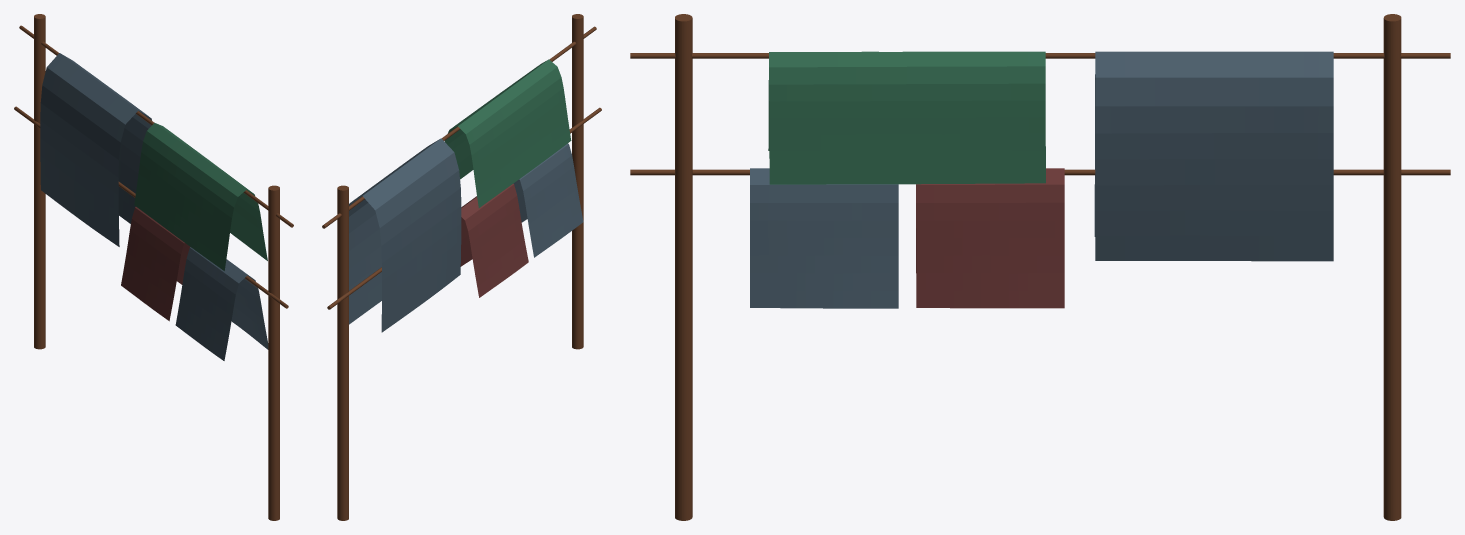
Rendered from varal.fbx.
3 renders of one model, left to right at view 1: azimuth 30°, elevation 25°; view 2: azimuth 150°, elevation 25°; view 3: azimuth 270°, elevation 25°, orthographic. The views are drawn at different scales.
Visible parts, largest first — view 1: Plane.001, Plane, Cylinder.003, Plane.003, Plane.004; view 2: Plane.001, Plane, Cylinder.003, Plane.004, Plane.003; view 3: Plane.001, Plane, Cylinder.003, Plane.004, Plane.003.
Boxes of the visible parts, x1=… form: Plane.001: x1=40, y1=53, x2=151, y2=246; Plane: x1=134, y1=123, x2=267, y2=270; Cylinder.003: x1=14, y1=14, x2=293, y2=520; Plane.003: x1=175, y1=247, x2=268, y2=360; Plane.004: x1=121, y1=207, x2=189, y2=321; Plane.001: x1=349, y1=138, x2=461, y2=332; Plane: x1=445, y1=59, x2=571, y2=207; Cylinder.003: x1=322, y1=14, x2=601, y2=520; Plane.004: x1=460, y1=183, x2=528, y2=297; Plane.003: x1=513, y1=143, x2=583, y2=257; Plane.001: x1=1094, y1=51, x2=1333, y2=261; Plane: x1=768, y1=51, x2=1045, y2=184; Cylinder.003: x1=630, y1=14, x2=1450, y2=520; Plane.004: x1=916, y1=168, x2=1064, y2=308; Plane.003: x1=750, y1=168, x2=898, y2=308.
Size of the model in its own units: 344 by 2134 by 3176.
4 materials, 4 textured.
